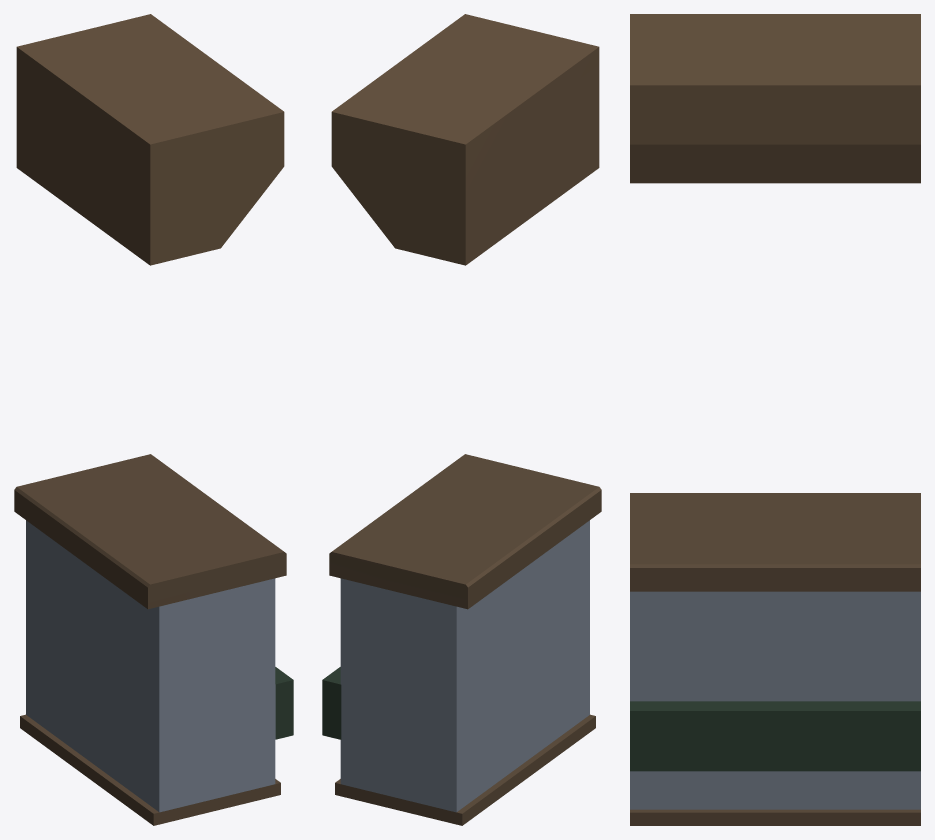
The model's file is SM_receptionCounter_01.glb.
The picture shows the model from 3 angles, left to right: view 1: azimuth 30°, elevation 25°; view 2: azimuth 150°, elevation 25°; view 3: azimuth 270°, elevation 25°; orthographic projection. The views are drawn at different scales.
Visible parts, largest first — view 1: SM_receptionCounter_01; view 2: SM_receptionCounter_01; view 3: SM_receptionCounter_01.
Boxes of the visible parts, <box> form: SM_receptionCounter_01: <box>14,14,293,825</box>; SM_receptionCounter_01: <box>322,14,601,825</box>; SM_receptionCounter_01: <box>630,14,920,825</box>.
Bounding box in the file's own units: 0.6299 × 2.82 × 1.
1 material, 1 textured.
